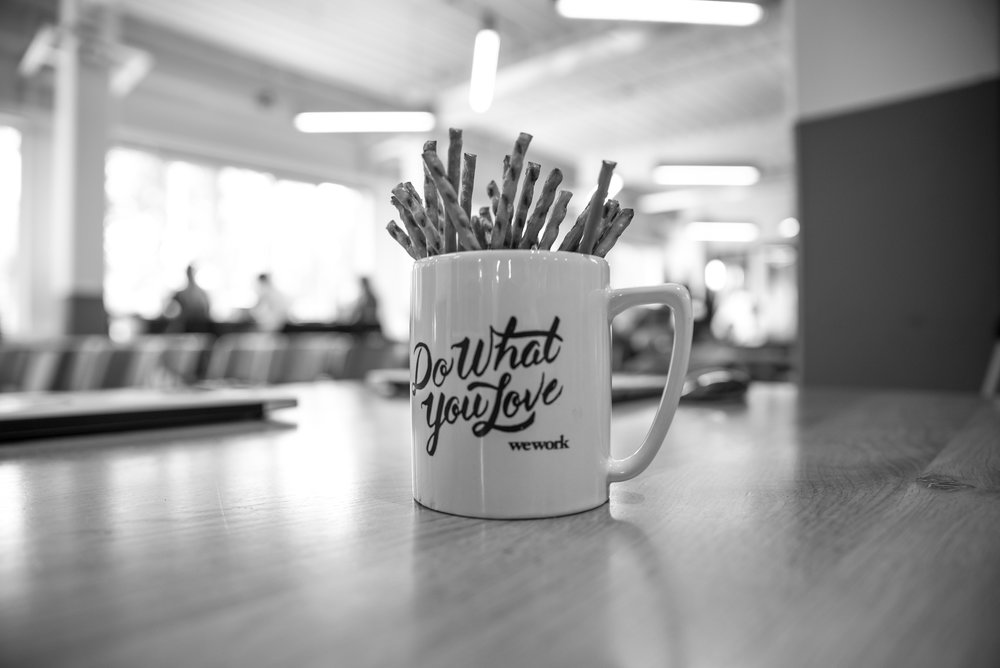wework: (506, 434, 573, 452)
